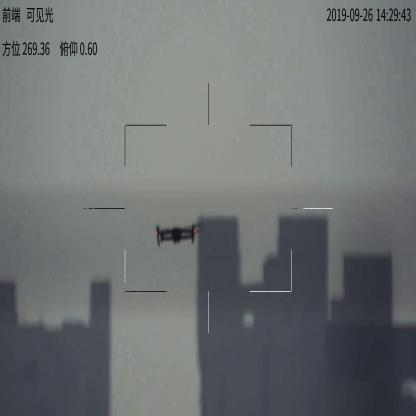uav: (148, 222, 200, 248)
